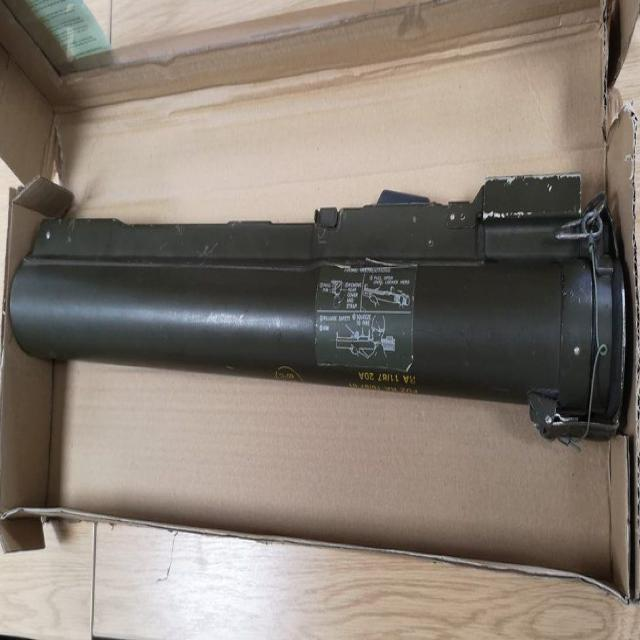bazooka: (10, 132, 640, 464)
